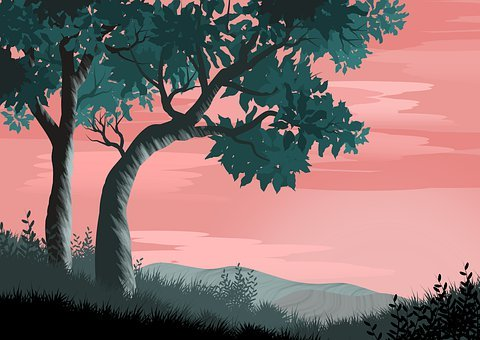tree: (11, 5, 331, 263)
